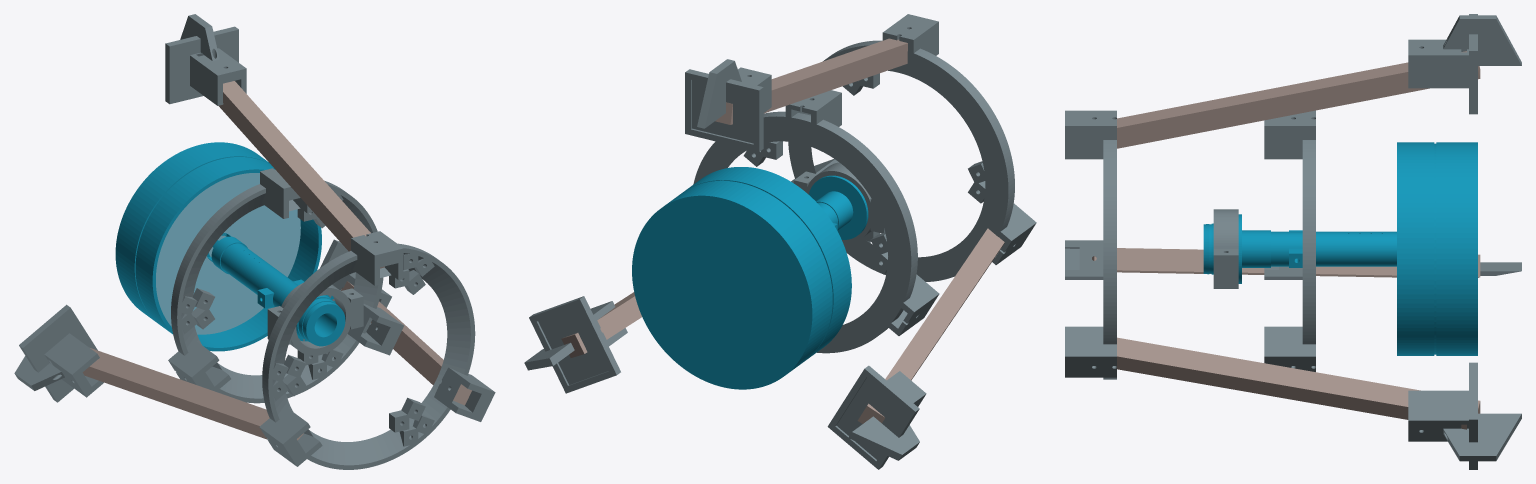
File: conjunto_agua.glb
3 renders of one model, left to right at view 1: azimuth 30°, elevation 25°; view 2: azimuth 150°, elevation 25°; view 3: azimuth 270°, elevation 25°, orthographic. The views are drawn at different scales.
Parts seen in each view (by area): view 1: world; view 2: world; view 3: world.
Boxes of the visible parts, x1=… form: world: x1=14, y1=14, x2=495, y2=469; world: x1=524, y1=14, x2=1036, y2=469; world: x1=1065, y1=14, x2=1521, y2=469.
Bounding box in the file's own units: 407 × 368 × 406.
